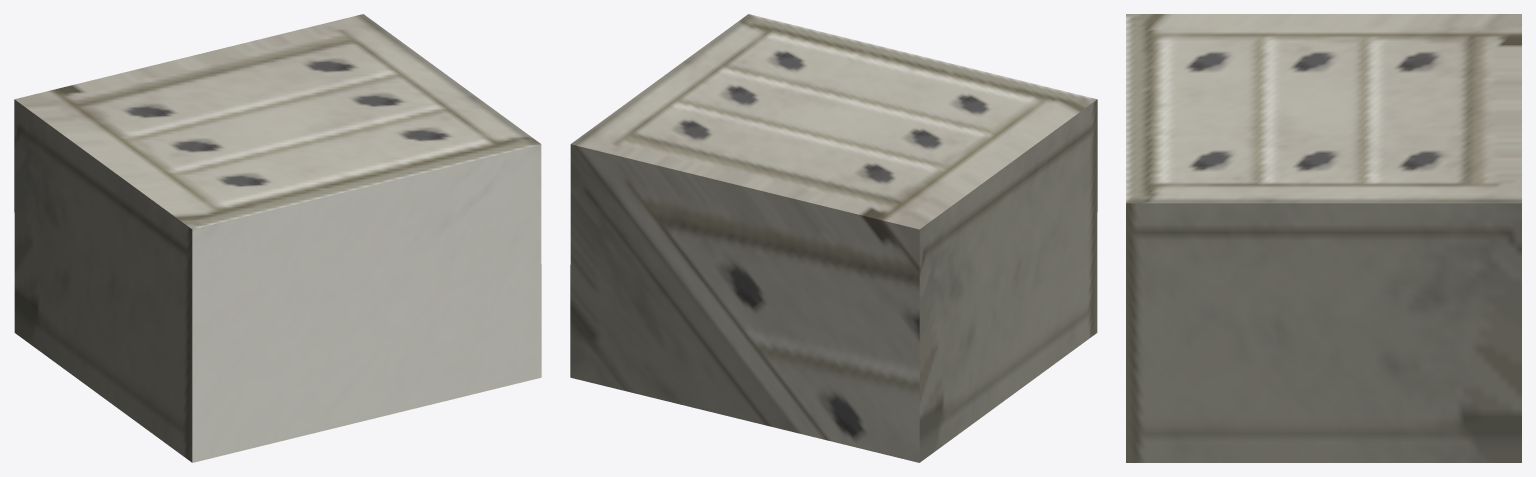
Rendered from pz_house_drawers_white.obj.
3 views of the same model, side by side, from view 1: azimuth 30°, elevation 25°; view 2: azimuth 150°, elevation 25°; view 3: azimuth 270°, elevation 25° (orthographic). The views are drawn at different scales.
Visible parts, largest first — view 1: pz_house_drawers_white_|_1_corpo_gavetas; view 2: pz_house_drawers_white_|_1_corpo_gavetas; view 3: pz_house_drawers_white_|_1_corpo_gavetas.
Boxes of the visible parts, x1,y1,x2,y2 form: pz_house_drawers_white_|_1_corpo_gavetas: (14,14,541,462); pz_house_drawers_white_|_1_corpo_gavetas: (570,14,1097,462); pz_house_drawers_white_|_1_corpo_gavetas: (1126,14,1521,462).
Bounding box in the file's own units: 0.9274 × 0.5929 × 0.8186.
1 material, 1 textured.
